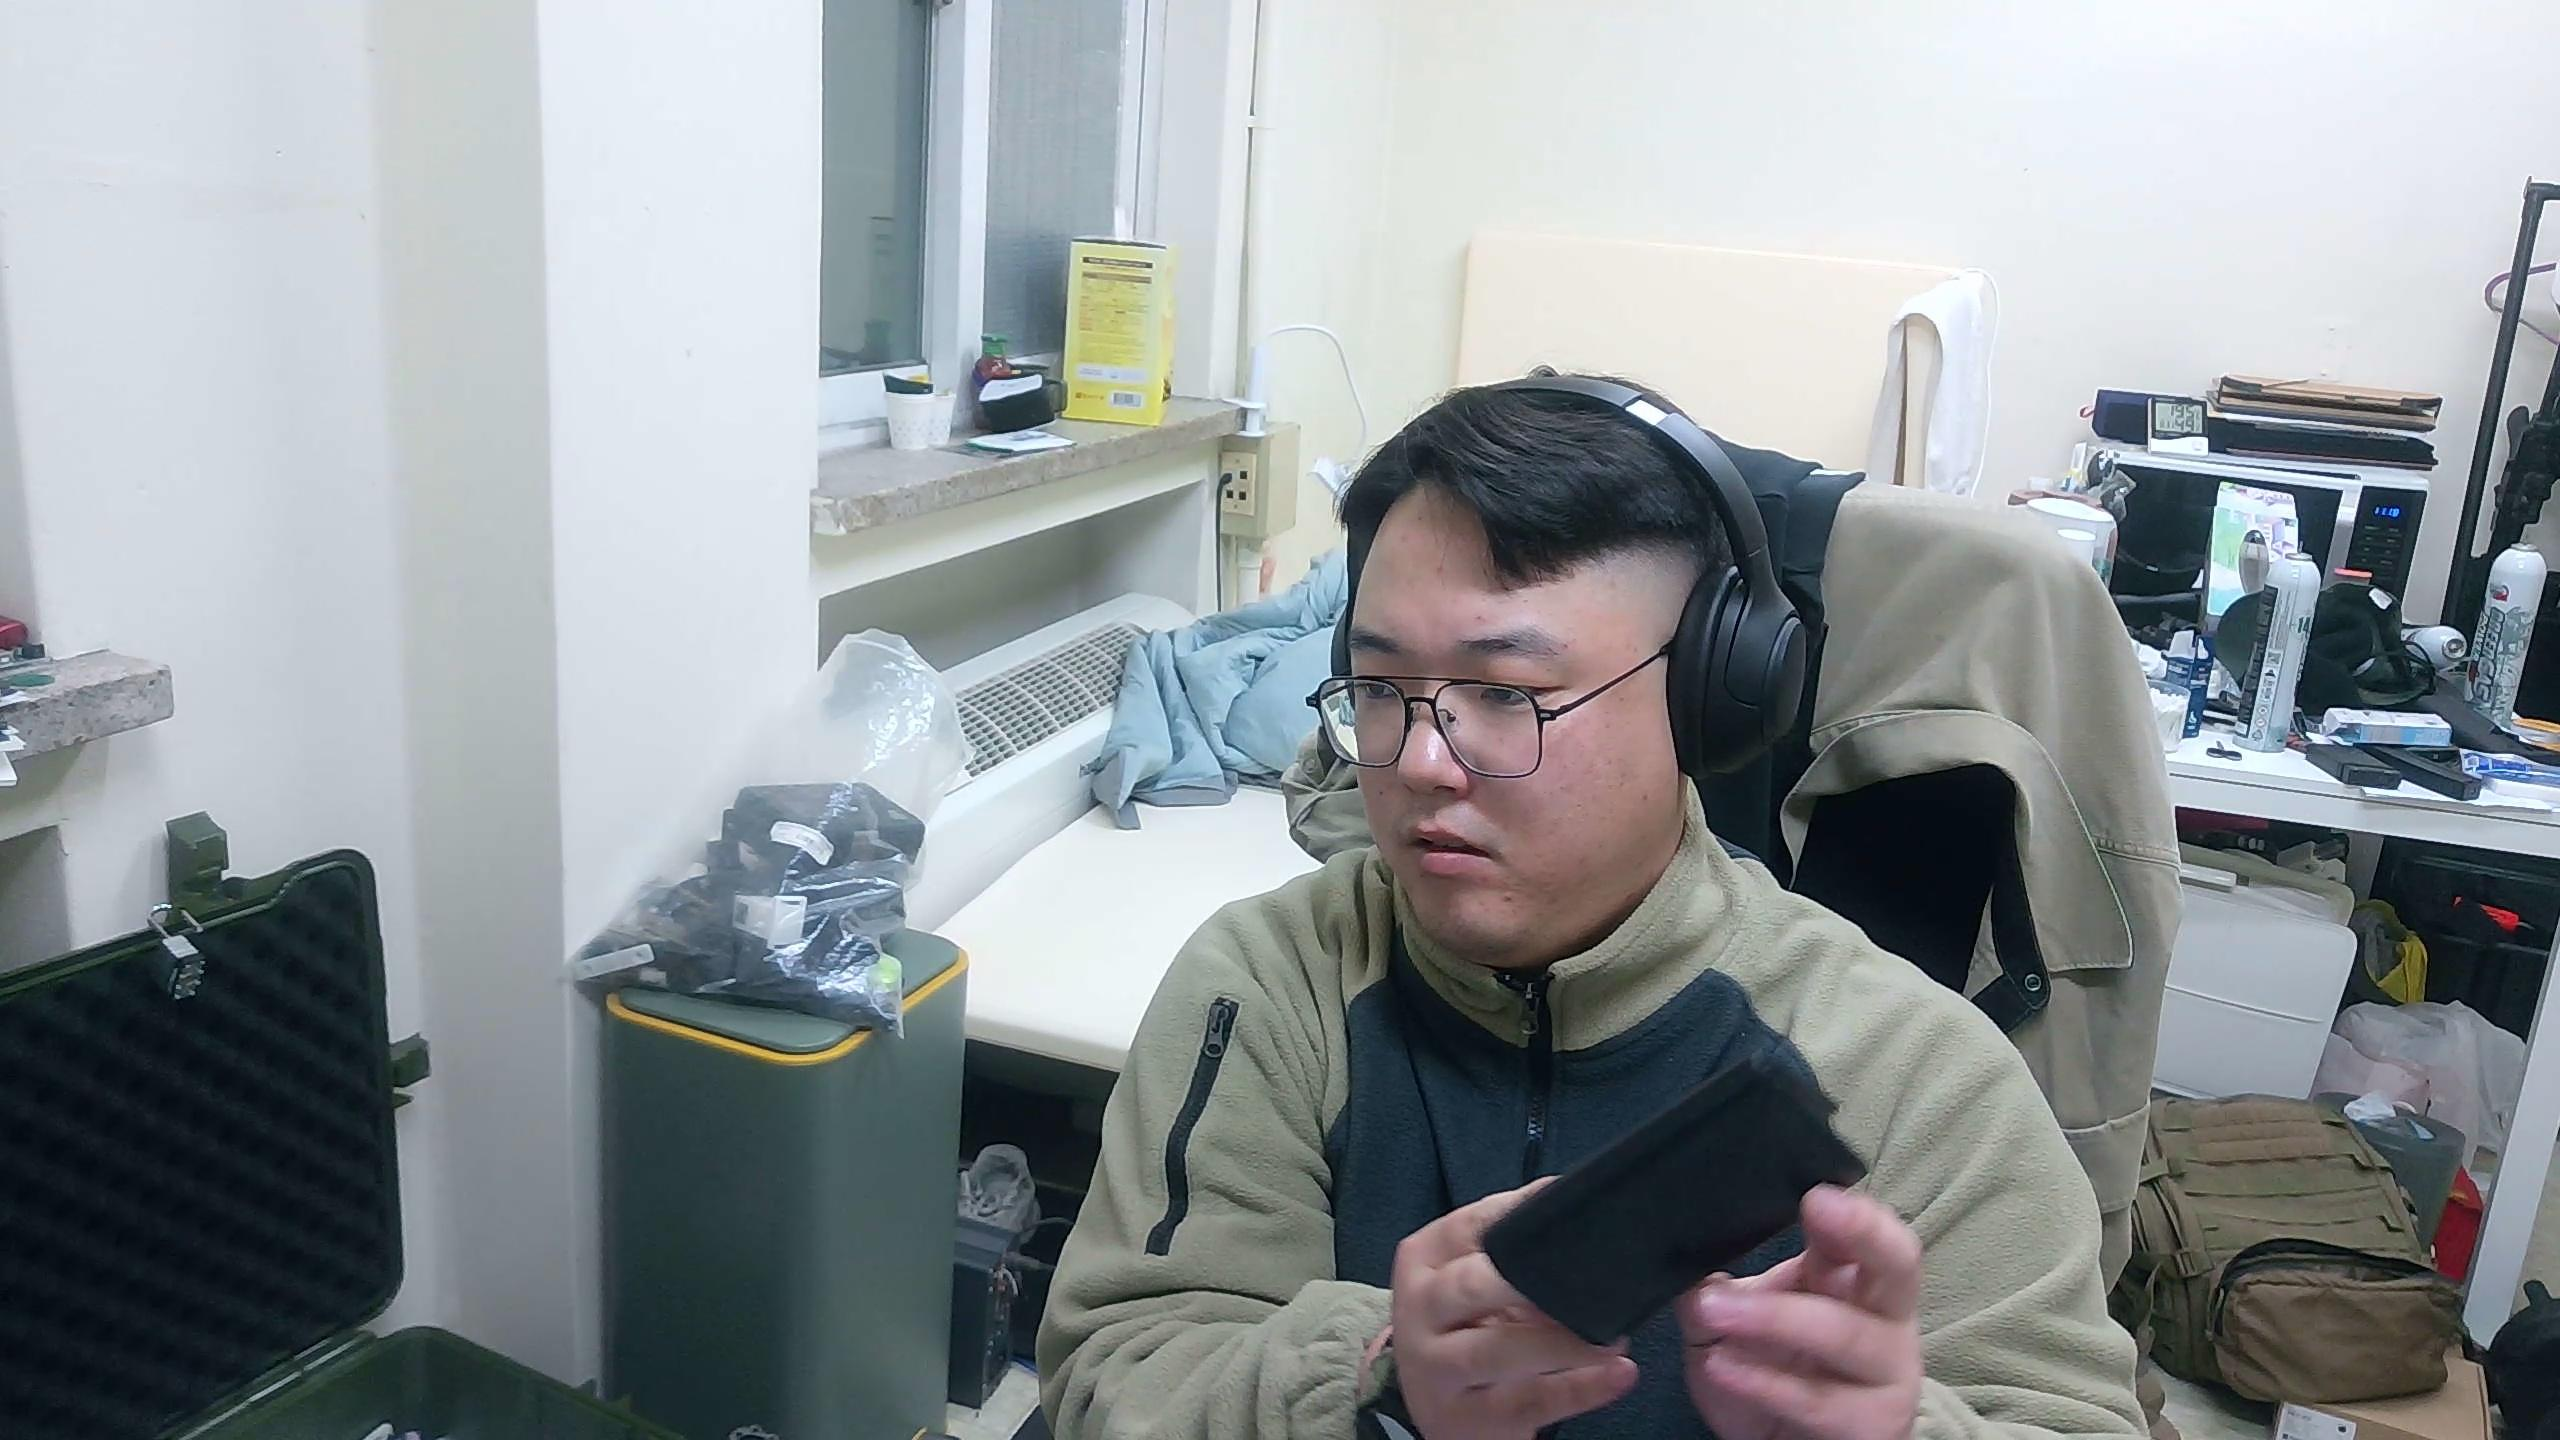Wallet: (1479, 1051, 1873, 1352)
